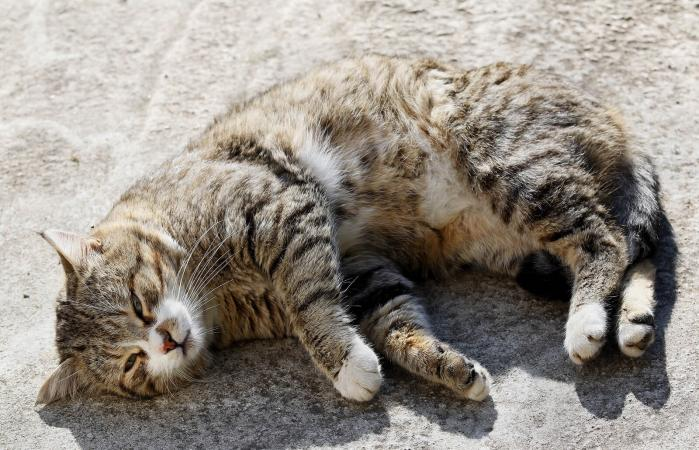Gato: (34, 162, 495, 414)
